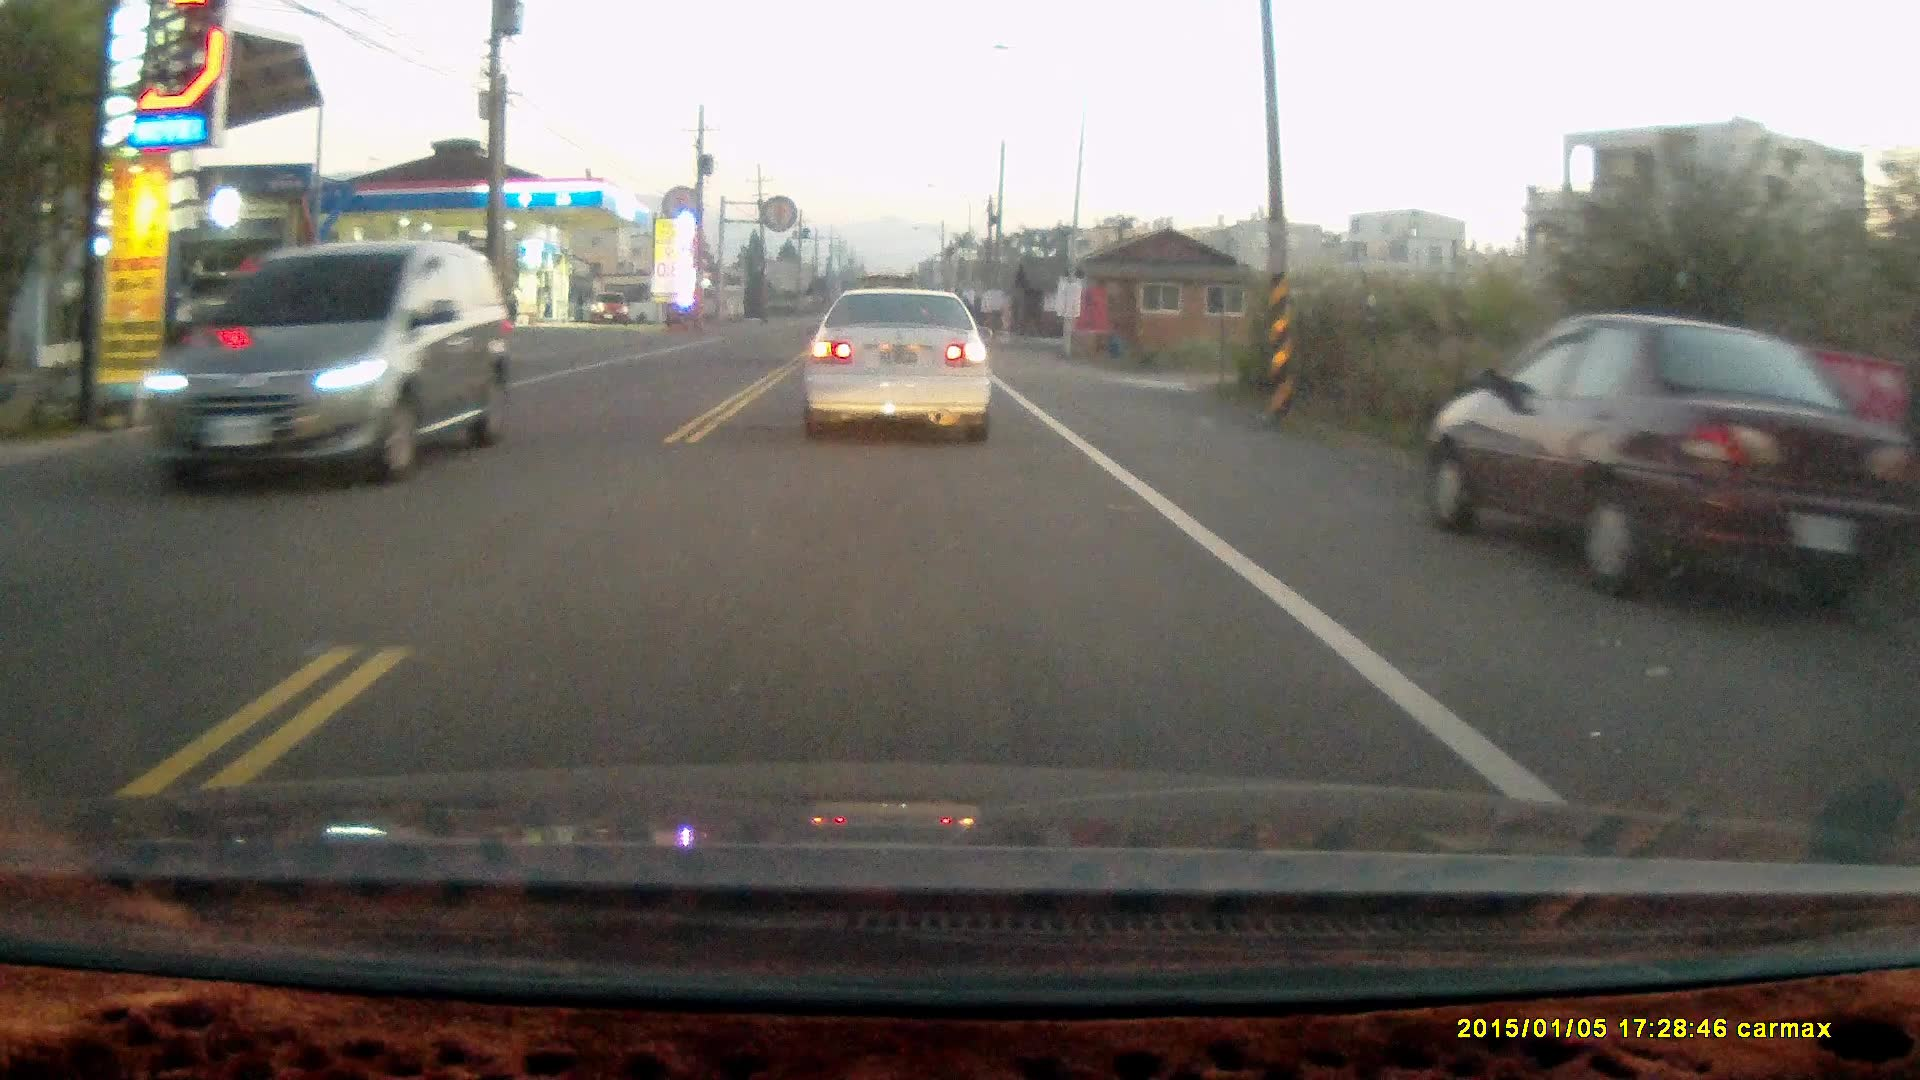vehicle: (1425, 313, 1909, 626), (131, 244, 517, 487), (796, 284, 996, 443), (591, 291, 630, 326)
